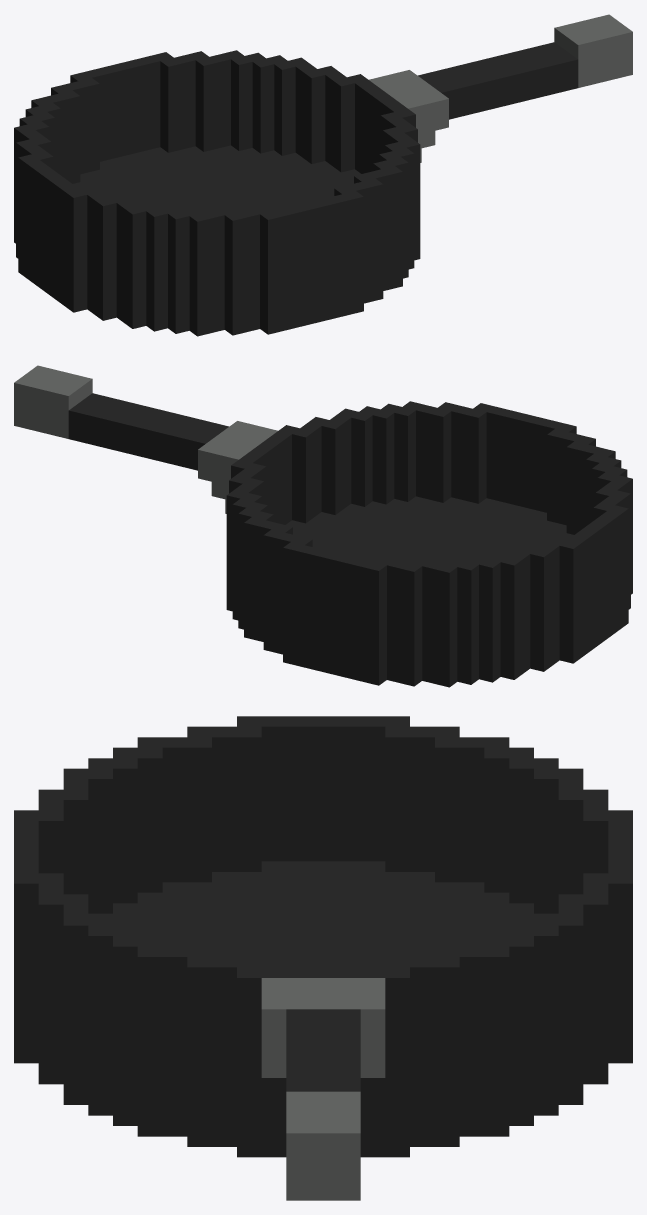
The model's file is Sarten.obj.
3 views of the same model, one above another, from view 1: azimuth 30°, elevation 25°; view 2: azimuth 150°, elevation 25°; view 3: azimuth 270°, elevation 25° (orthographic). The views are drawn at different scales.
Bounding box in the file's own units: 4.2 × 0.9 × 2.5.
1 material, 1 textured.
